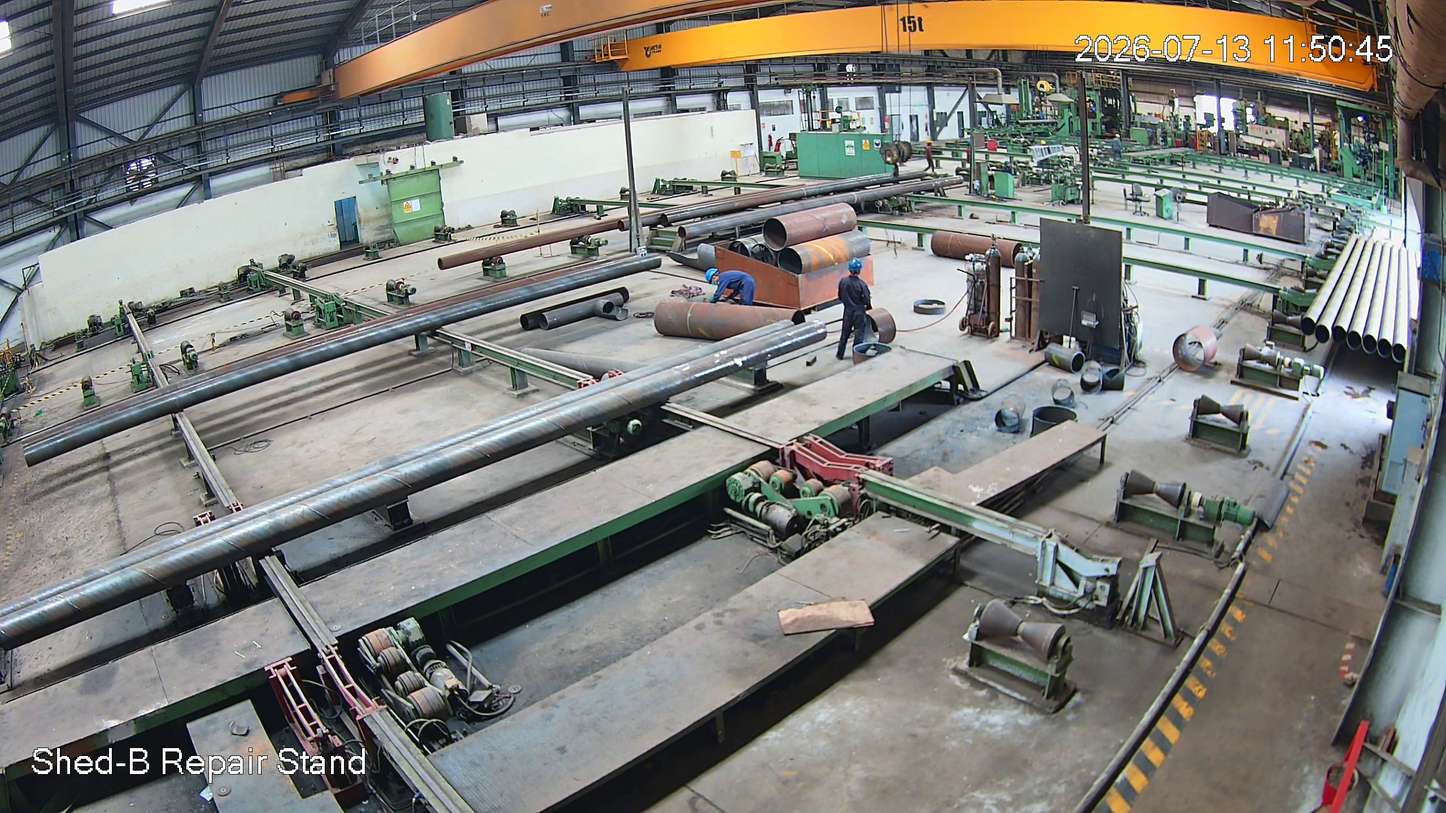Helmet: (703, 268, 722, 288), (847, 257, 862, 278)
Person: (704, 268, 758, 317), (837, 260, 865, 354)
